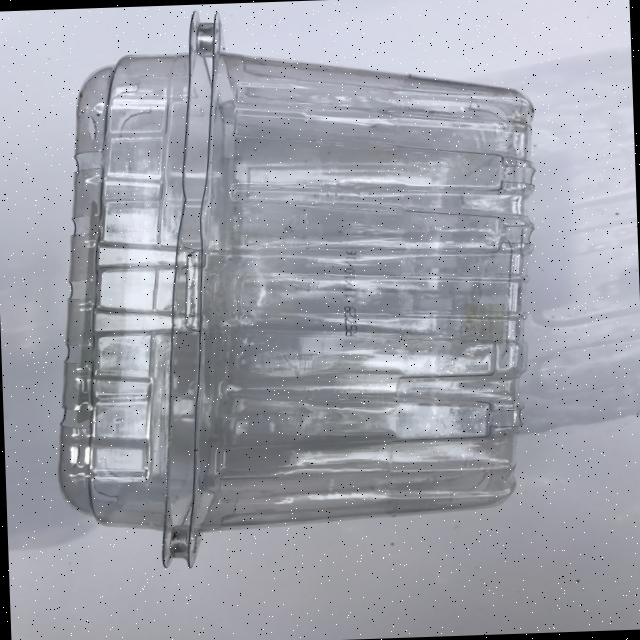plastic: (41, 0, 551, 572)
